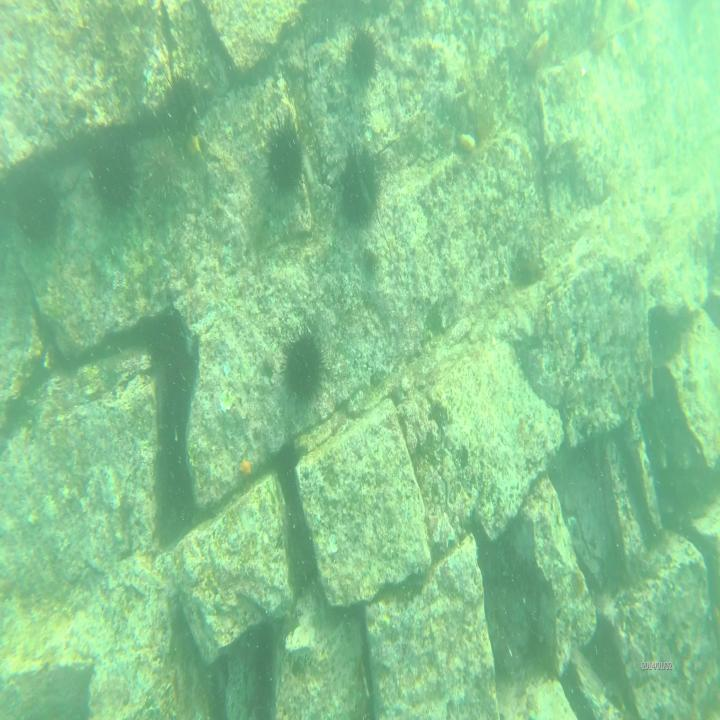echinus: (88, 122, 136, 212), (10, 167, 63, 247), (281, 321, 329, 408), (338, 139, 385, 227), (260, 114, 307, 194), (145, 135, 188, 211), (160, 69, 198, 138), (348, 23, 382, 86)
starfish: (237, 456, 253, 482)
